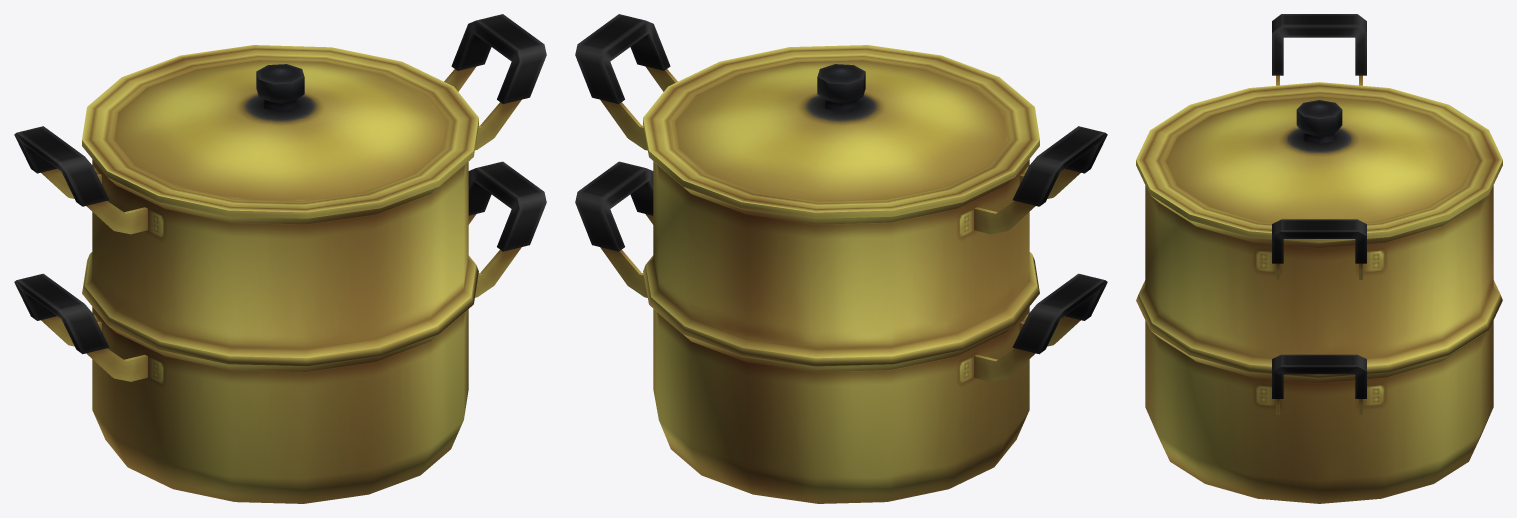
File: KR_Pot_02_02.fbx
3 views of the same model, side by side, from view 1: azimuth 30°, elevation 25°; view 2: azimuth 150°, elevation 25°; view 3: azimuth 270°, elevation 25° (orthographic). The views are drawn at different scales.
Visible parts, largest first — view 1: pot02, pot01, lid01; view 2: pot02, pot01, lid01; view 3: pot02, pot01, lid01.
Boxes of the visible parts, x1=… form: pot02: x1=14, y1=14, x2=546, y2=366; pot01: x1=14, y1=161, x2=546, y2=503; lid01: x1=82, y1=45, x2=478, y2=218; pot02: x1=575, y1=14, x2=1107, y2=366; pot01: x1=575, y1=161, x2=1107, y2=503; lid01: x1=643, y1=45, x2=1039, y2=218; pot02: x1=1136, y1=14, x2=1502, y2=377; pot01: x1=1145, y1=320, x2=1493, y2=503; lid01: x1=1136, y1=82, x2=1502, y2=242.
Size of the model in its own units: 33.43 by 23.6 by 23.83.
